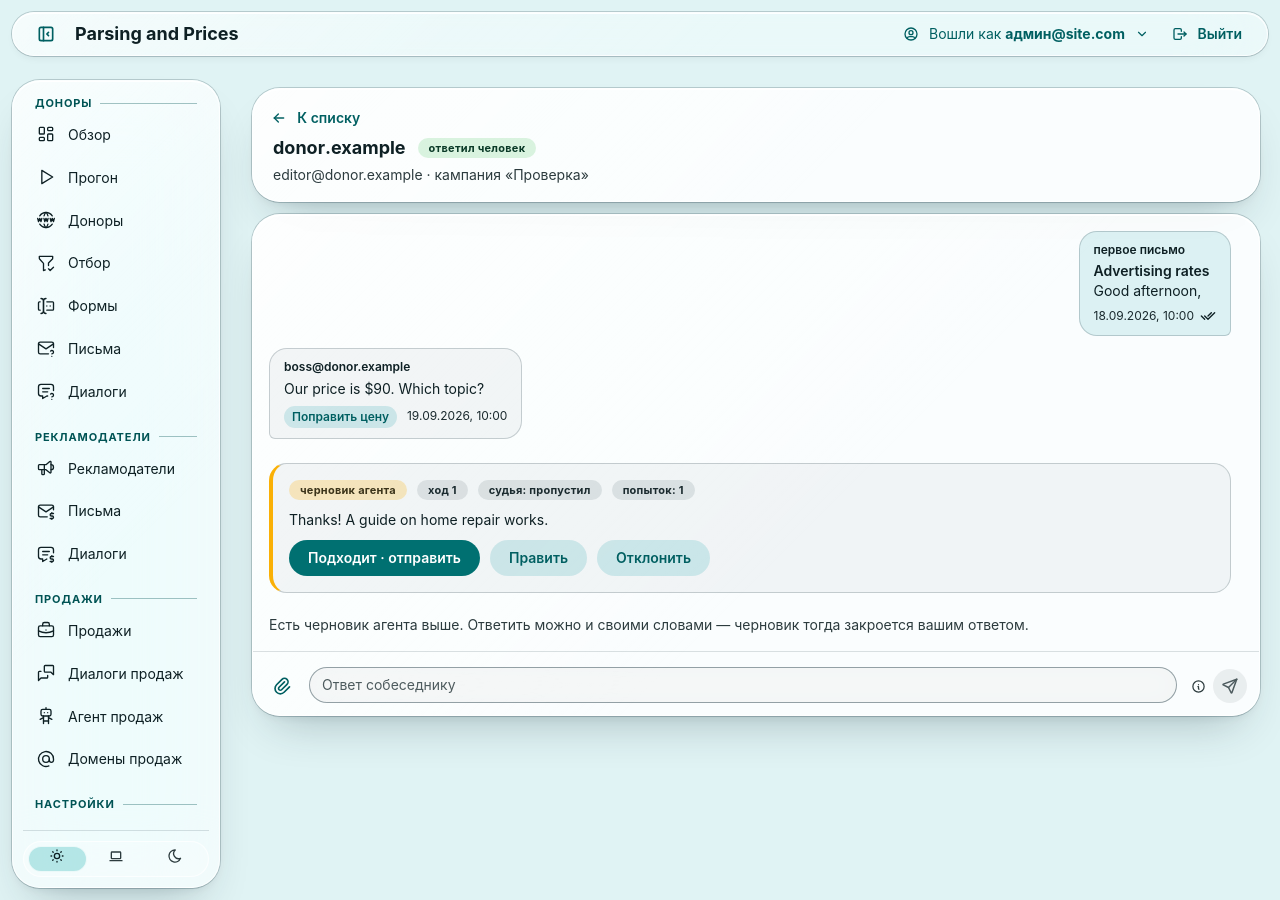
плашка черновика агента › A2: правка уходит своим текстом
The width and height of the screenshot is (1280, 900).
Check: the heading "donor.example" is shown, box [273, 135, 406, 161]
Click the button "Править": (539,558) [490, 540, 587, 576]
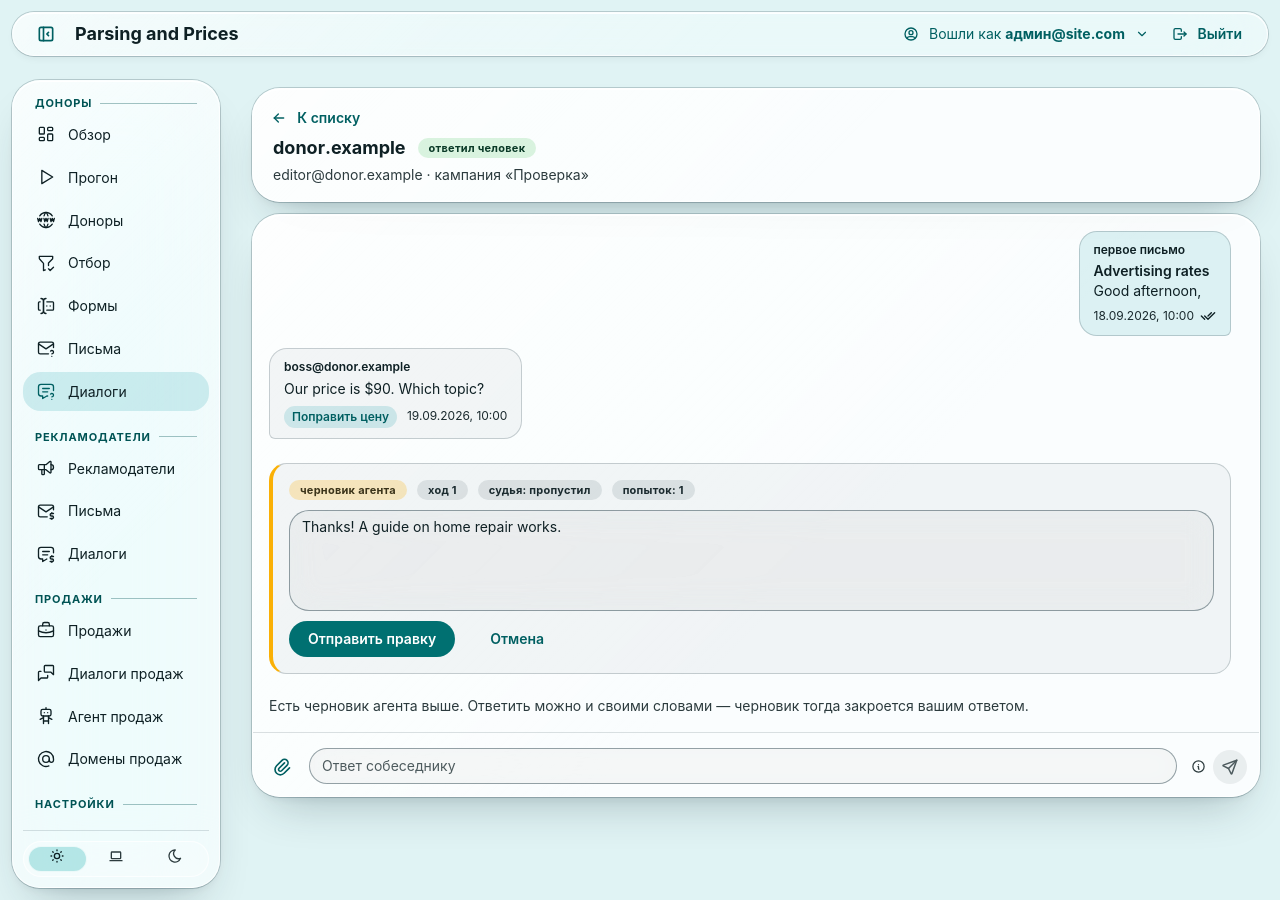
Check: the text box named "Текст ответа по черновику" holds "Thanks! A guide on home repair works."
Replace the text in the text box named "Текст ответа по черновику" with "Thanks! 1500 words on home repair.": (752,560) [289, 510, 1214, 611]
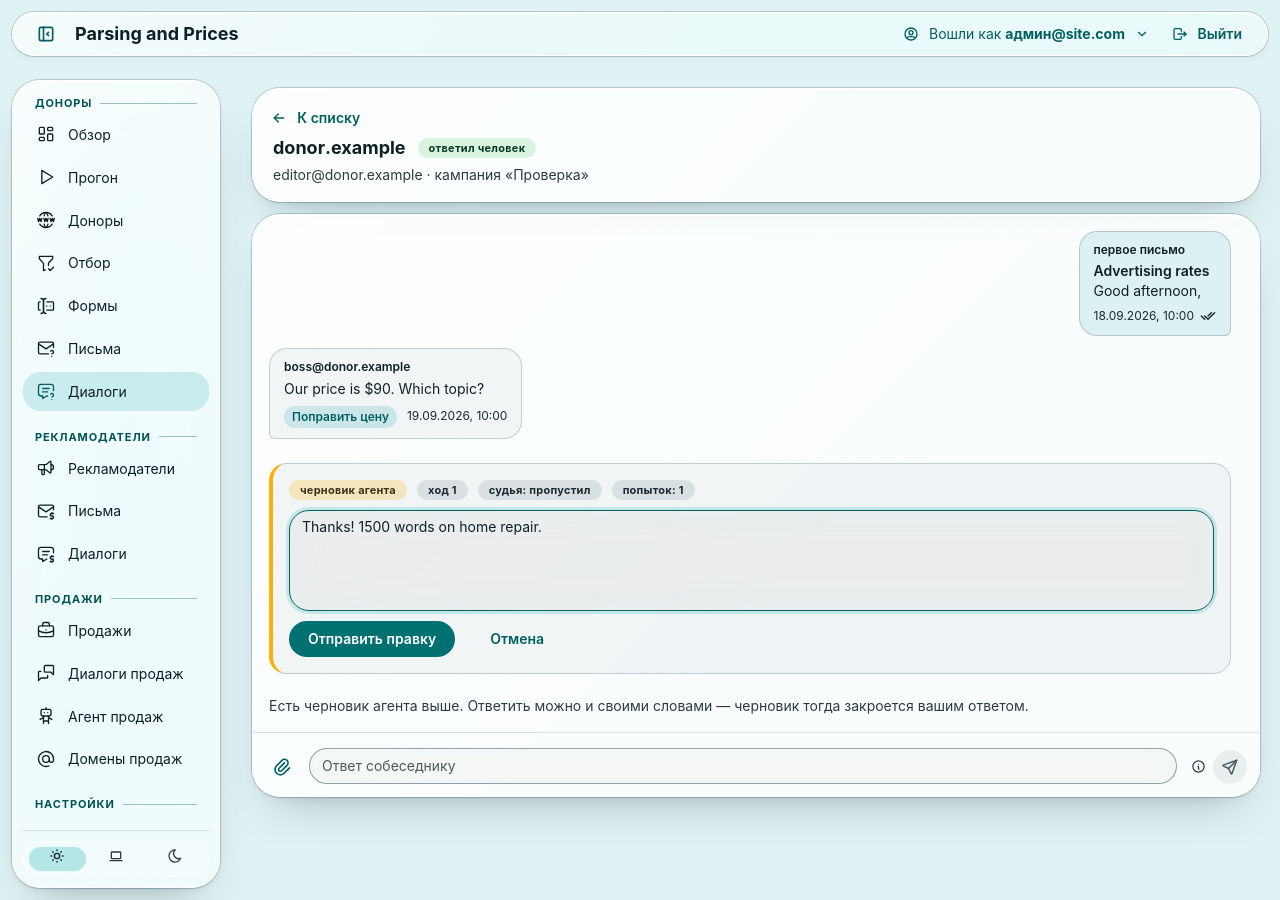
Click the button "Отправить правку": (372,639) [289, 621, 455, 657]
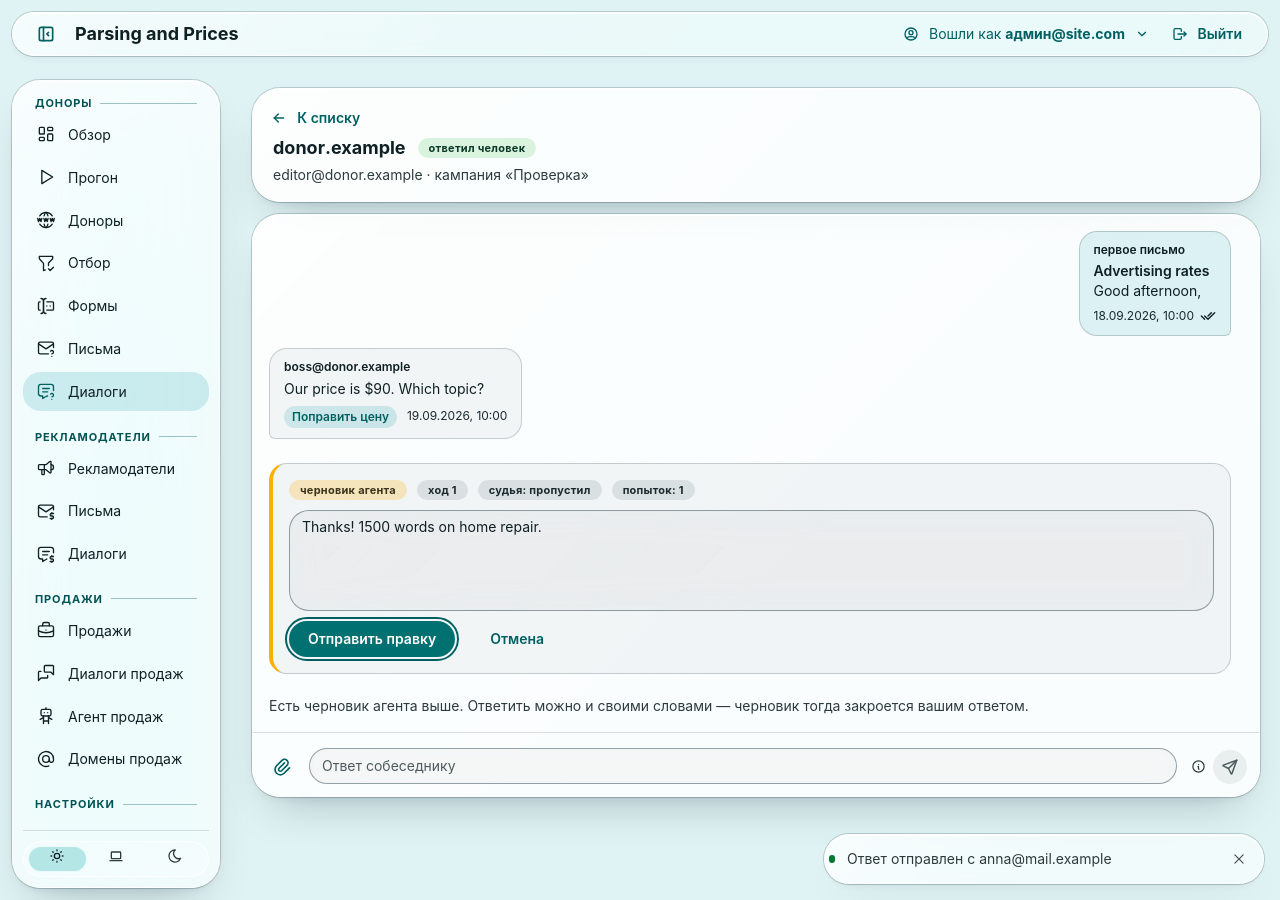
Check: the text "Ответ отправлен с anna@mail.example" is shown, box [847, 850, 1112, 867]
